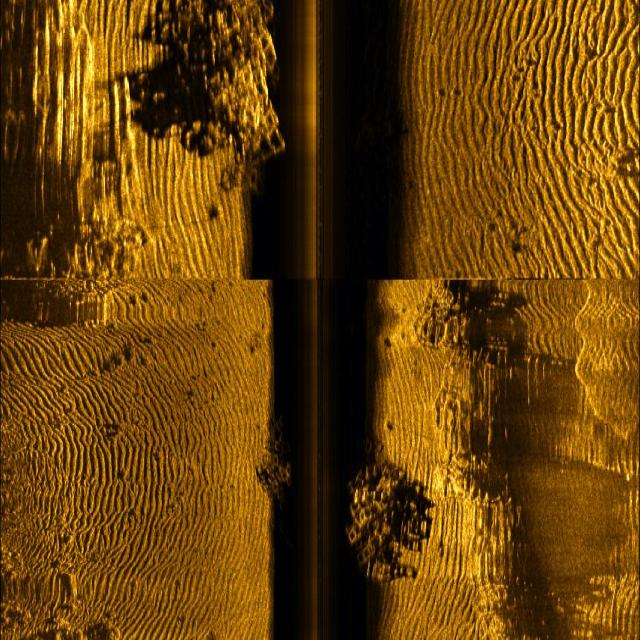artificial reef: (161, 4, 293, 200), (339, 434, 414, 588), (251, 398, 294, 505)
